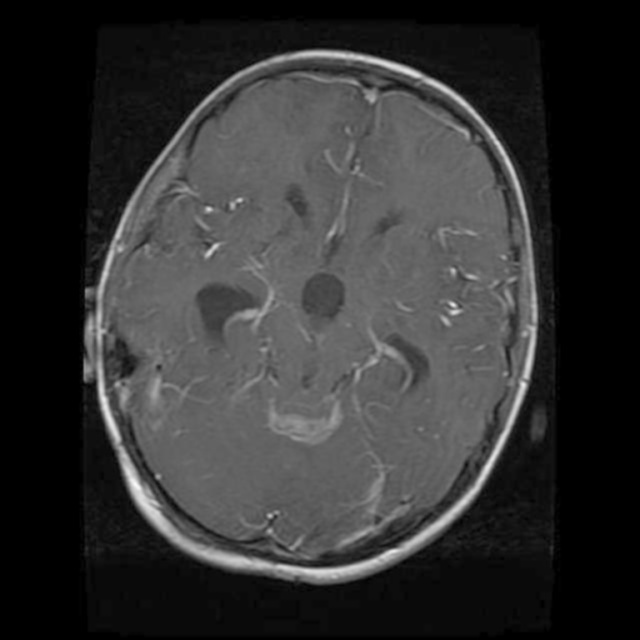pituitary tumor: (260, 401, 344, 450)
